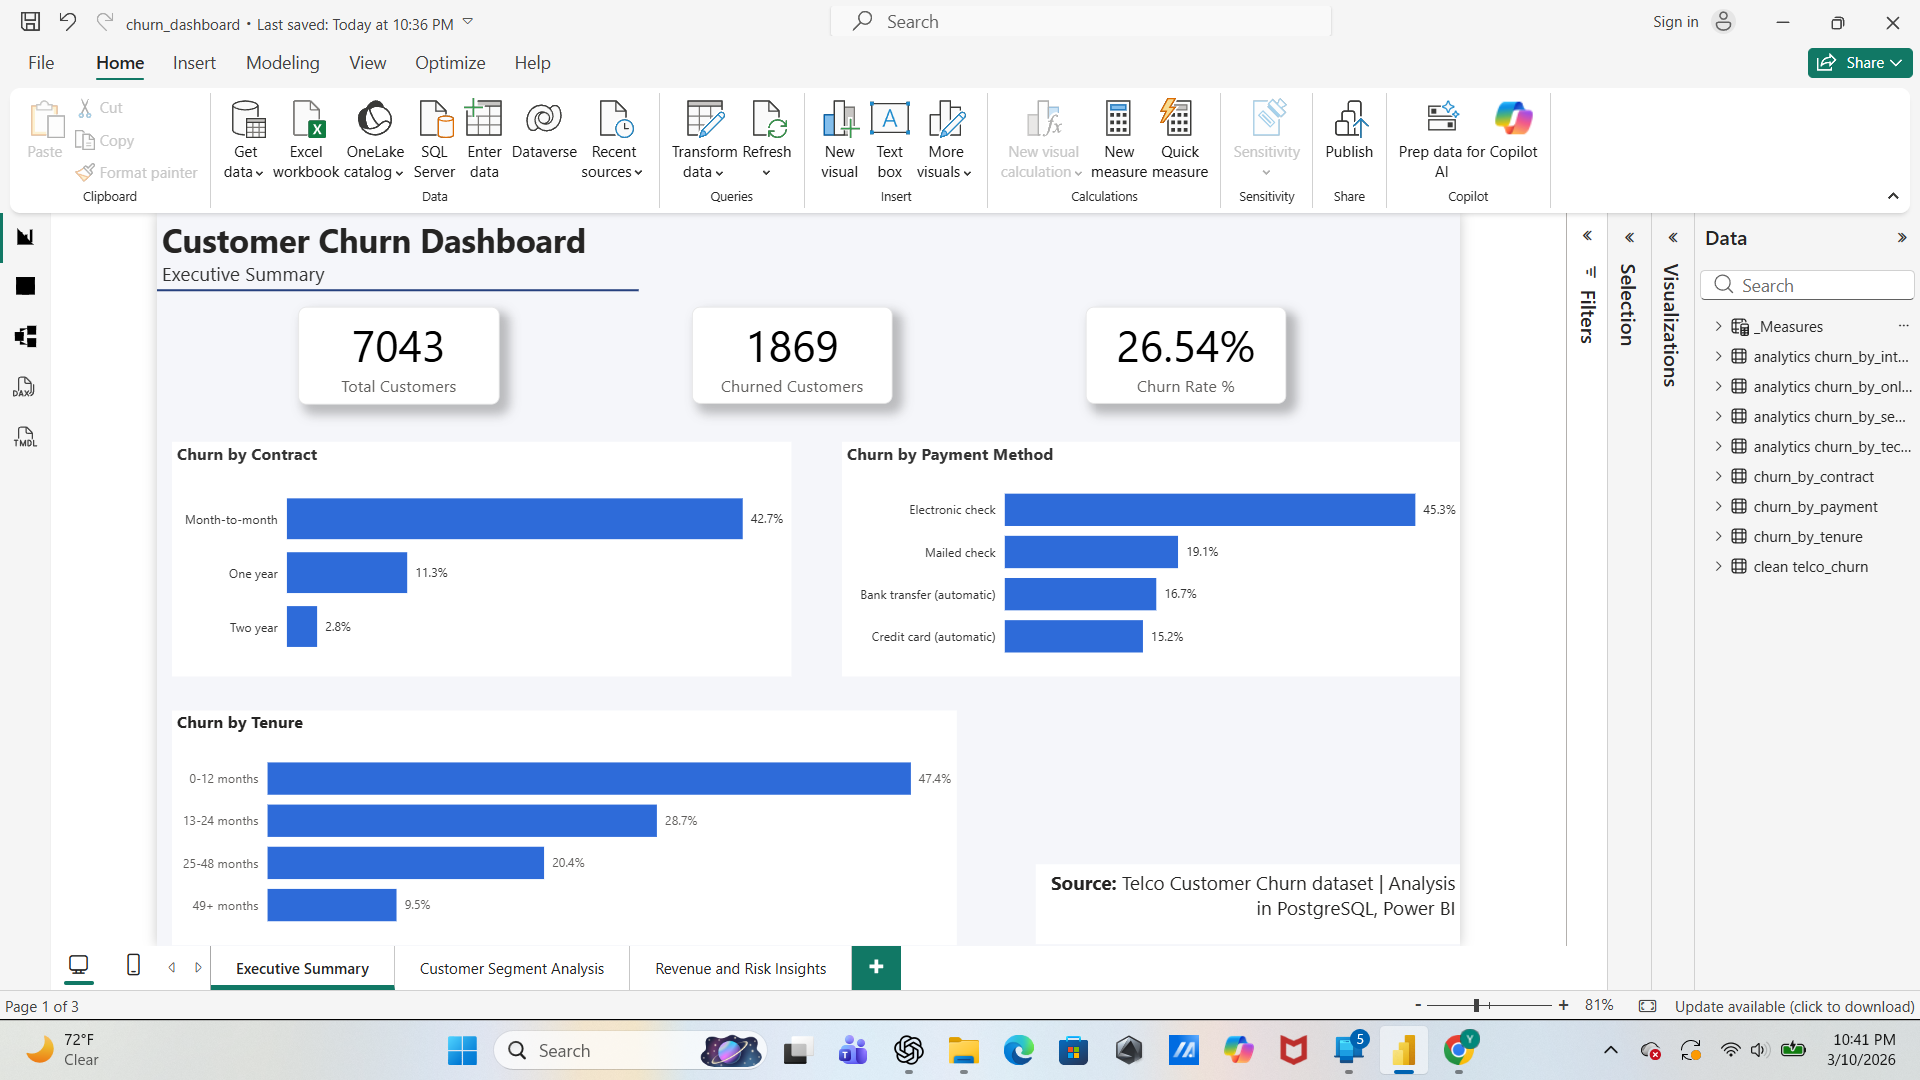

The dashboard page shown, as its layout file describes it:
{"tool":"powerbi","page":{"name":"Executive Summary","canvas":[1280,720],"ordinal":0},"visuals":[{"type":"shape","box":[0,0,473,151.7],"z":0},{"type":"textbox","box":[0,0,472.4,79.8],"z":1000},{"type":"card","fields":{"Values":["_Measures.Total Customers"]},"box":[138.1,92,197.8,95.8],"z":2000},{"type":"card","fields":{"Values":["_Measures.Churned Customers"]},"box":[525.4,92,197,95],"z":3000},{"type":"card","fields":{"Values":["_Measures.Churn Rate_ %"]},"box":[912,92,197,95],"z":4000},{"type":"clusteredBarChart","title":"Churn by Contract","fields":{"Category":["churn_by_contract.contract"],"Y":["churn_by_contract.Churn Rate %"]},"box":[15,224,608,230],"z":5000},{"type":"clusteredBarChart","title":"Churn by Payment Method","fields":{"Category":["churn_by_payment.payment_method"],"Y":["churn_by_payment.Churn_Rate %"]},"box":[672.4,224,608,230],"z":6000},{"type":"clusteredBarChart","title":"Churn by Tenure","fields":{"Category":["churn_by_tenure.tenure_cohort"],"Y":["churn_by_tenure._Churn Rate %"]},"box":[15,488.3,770,230],"z":7000},{"type":"textbox","box":[862.6,639.3,417.2,78.5],"z":8000}]}

Visuals, with their boxes on the page's 1280x720 design canvas (x1, y1, x2, y2). These are canvas units, not pixel positions in the 1920x1080 screenshot, which may show the page scaled, cropped or inside an application window:
shape: bbox=[0, 0, 473, 152]
textbox: bbox=[0, 0, 472, 80]
card - _Measures.Total Customers: bbox=[138, 92, 336, 188]
card - _Measures.Churned Customers: bbox=[525, 92, 722, 187]
card - _Measures.Churn Rate_ %: bbox=[912, 92, 1109, 187]
"Churn by Contract" clusteredBarChart: bbox=[15, 224, 623, 454]
"Churn by Payment Method" clusteredBarChart: bbox=[672, 224, 1280, 454]
"Churn by Tenure" clusteredBarChart: bbox=[15, 488, 785, 718]
textbox: bbox=[863, 639, 1280, 718]
